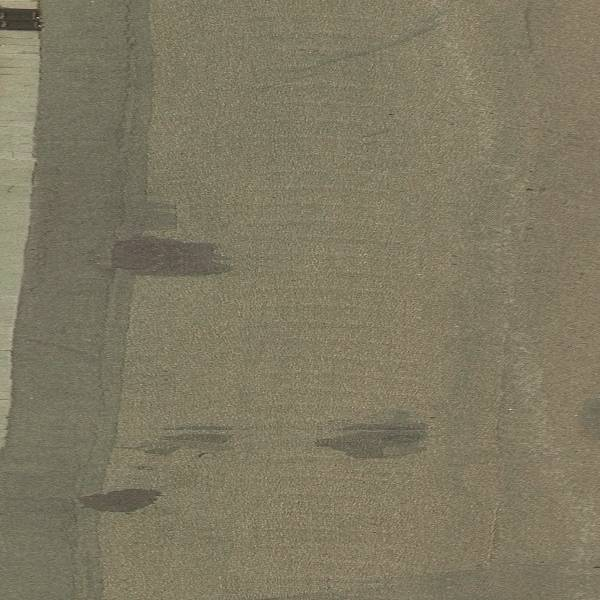road_damage: (305, 401, 450, 469), (101, 229, 248, 285), (67, 485, 168, 519), (135, 430, 241, 461)
